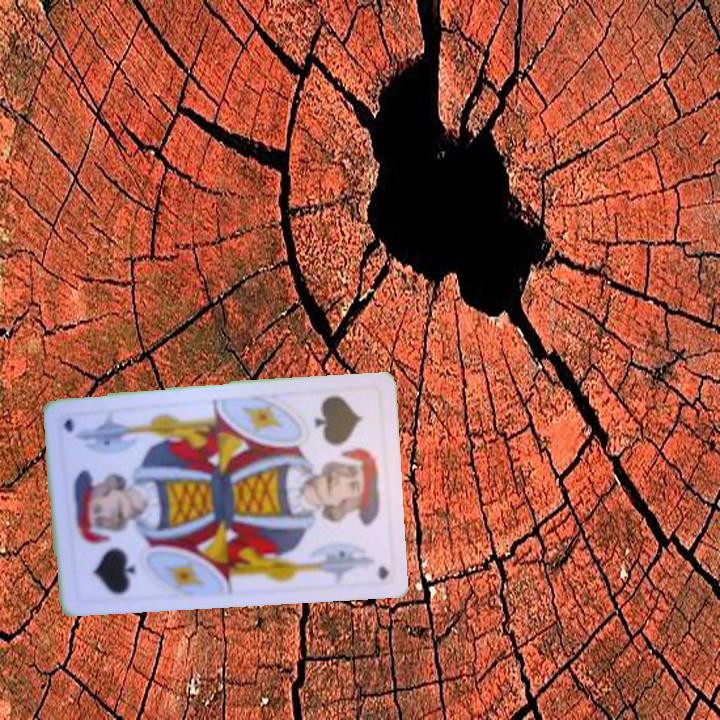s_j.png: (65, 495, 156, 600), (295, 388, 386, 492)
